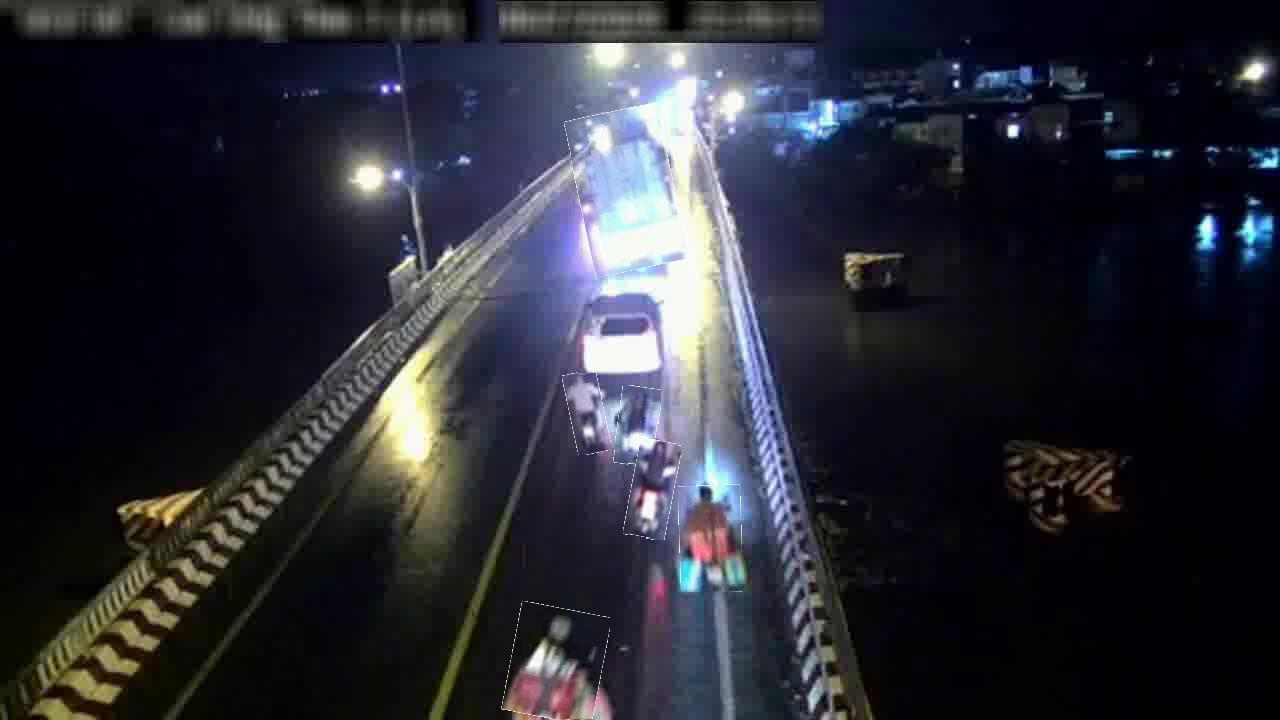8: (572, 106, 682, 273)
container: (577, 286, 665, 374)
motorbike: (506, 605, 607, 719), (679, 485, 743, 593), (628, 440, 678, 540), (566, 371, 608, 455), (616, 386, 660, 466)
